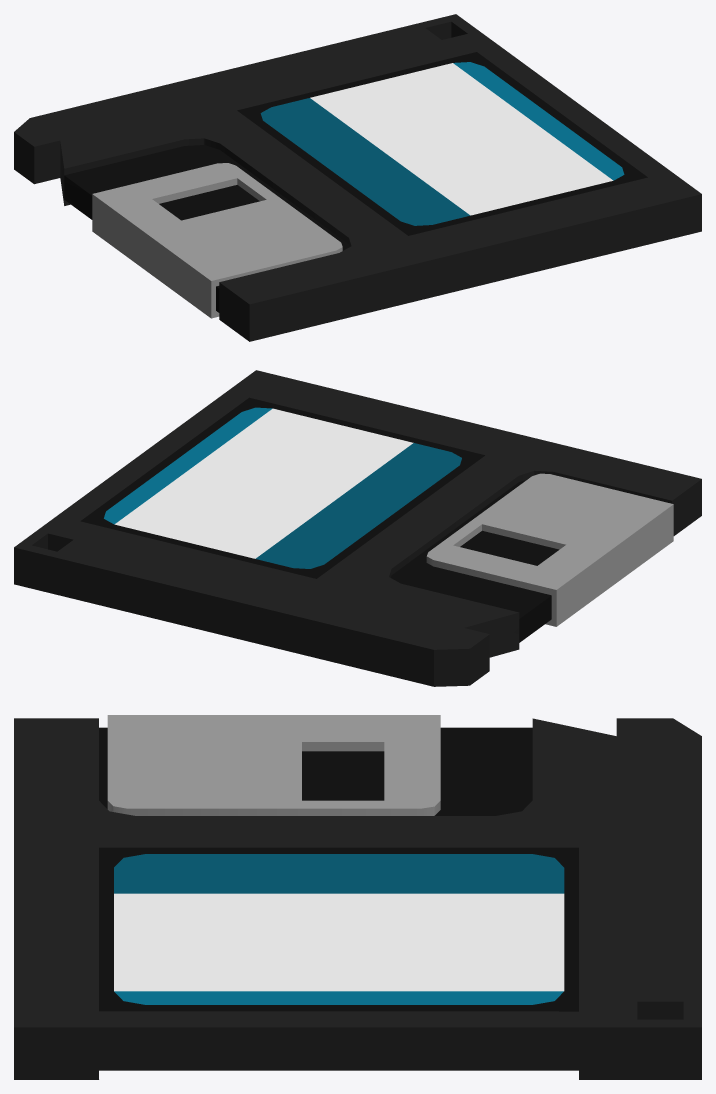
The model's file is FloppyDisc_01.glb.
3 renders of one model, top to bottom at view 1: azimuth 30°, elevation 25°; view 2: azimuth 150°, elevation 25°; view 3: azimuth 270°, elevation 25°, orthographic. The views are drawn at different scales.
Parts seen in each view (by area): view 1: Mesh_FloppyDisc_01; view 2: Mesh_FloppyDisc_01; view 3: Mesh_FloppyDisc_01.
Boxes of the visible parts, left/top/right/bottom form: Mesh_FloppyDisc_01: left=14, top=14, right=701, bottom=341; Mesh_FloppyDisc_01: left=14, top=370, right=701, bottom=686; Mesh_FloppyDisc_01: left=14, top=715, right=701, bottom=1079.
Bounding box in the file's own units: 0.1314 × 0.0128 × 0.1224.
Materials: 1 (1 with a texture image).
